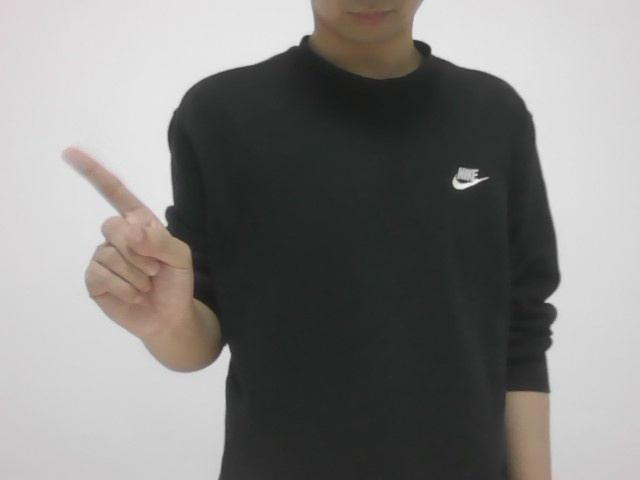what: (50, 137, 203, 346)
